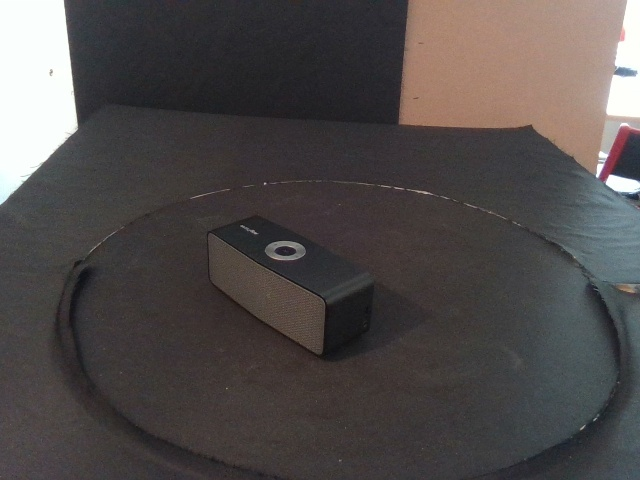speaker: (207, 215, 374, 358)
